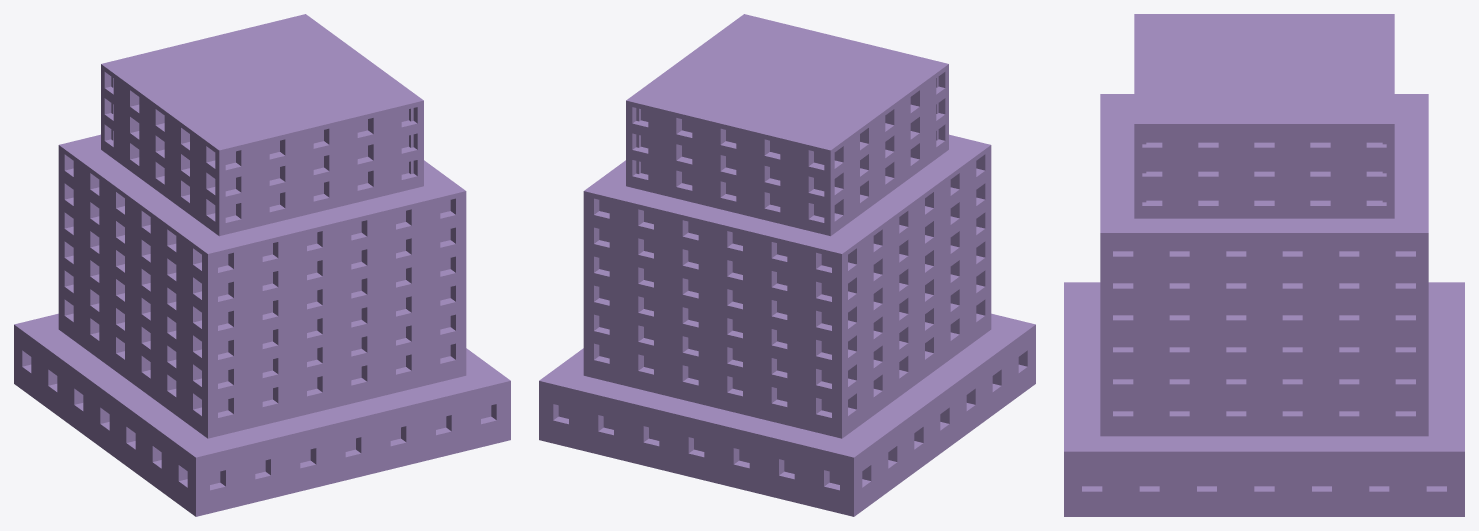
The model's file is mixed_use.glb.
3 renders of one model, left to right at view 1: azimuth 30°, elevation 25°; view 2: azimuth 150°, elevation 25°; view 3: azimuth 270°, elevation 25°, orthographic. The views are drawn at different scales.
Parts seen in each view (by area): view 1: mixed_use; view 2: mixed_use; view 3: mixed_use.
Part boxes in pixels (bbox=[...]): mixed_use: bbox=[14, 14, 510, 516]; mixed_use: bbox=[539, 14, 1035, 516]; mixed_use: bbox=[1064, 14, 1464, 516].
Bounding box in the file's own units: 1 × 1 × 1.
